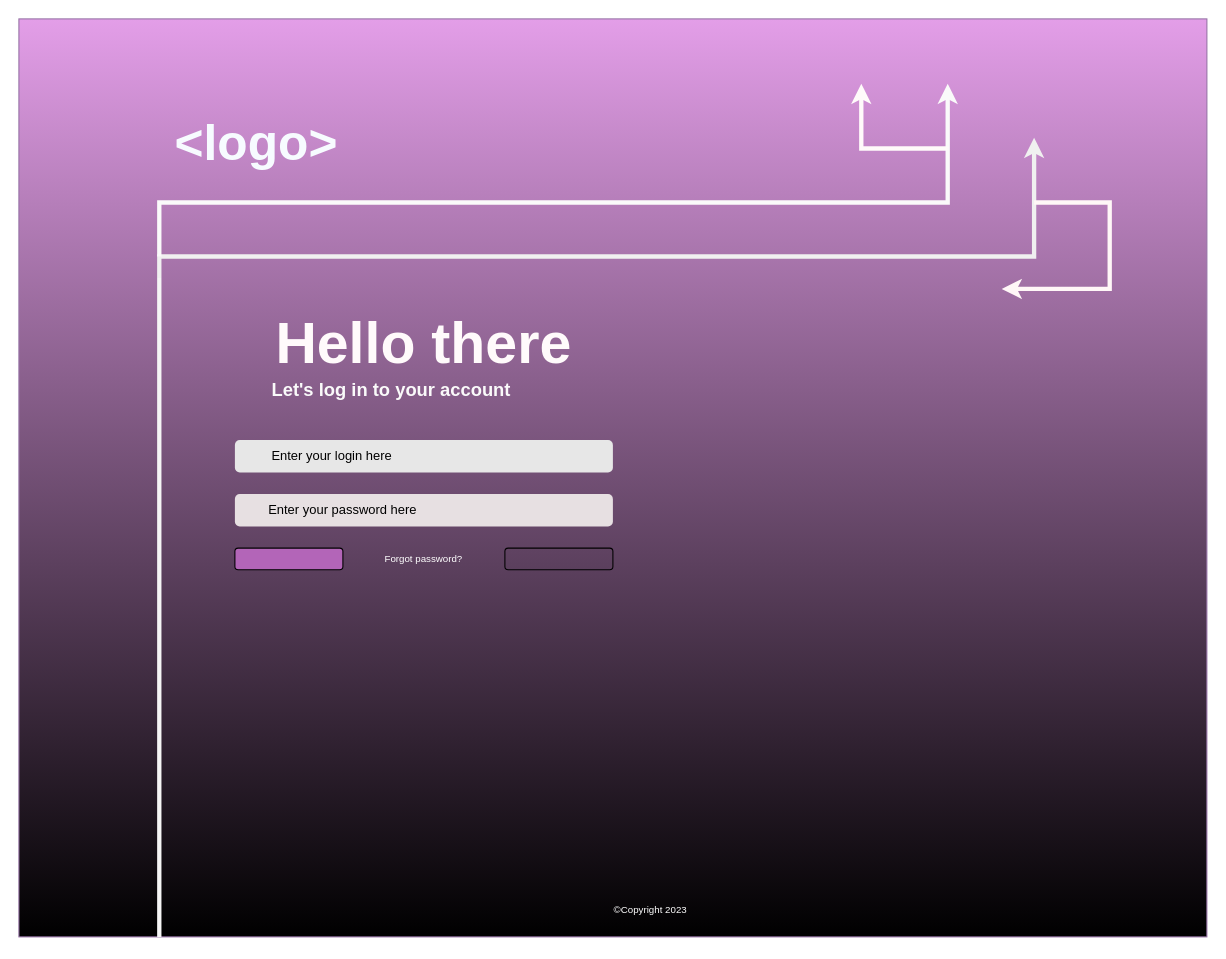
Image size: 1226x959. Some labels were removed from this diagram. The centre of each missing label's shape, as x and y in pixels:
Sign in: the point at 288,558
Sign up: the point at 558,558
